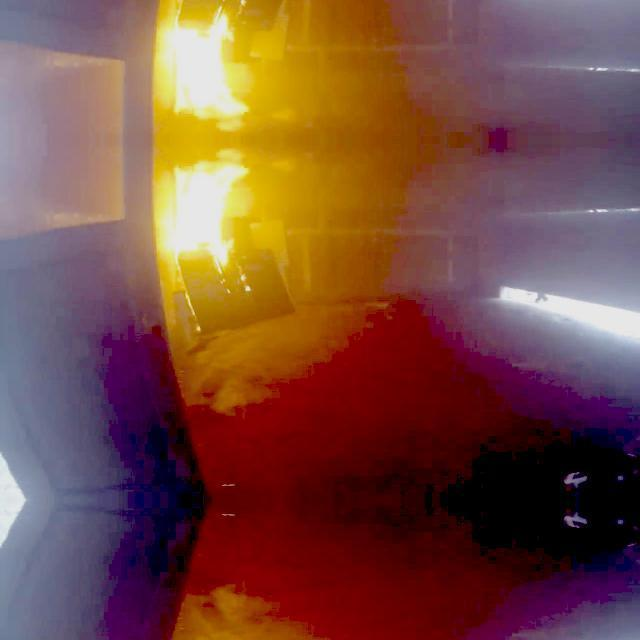smoke: (164, 144, 248, 272), (164, 9, 248, 136)
